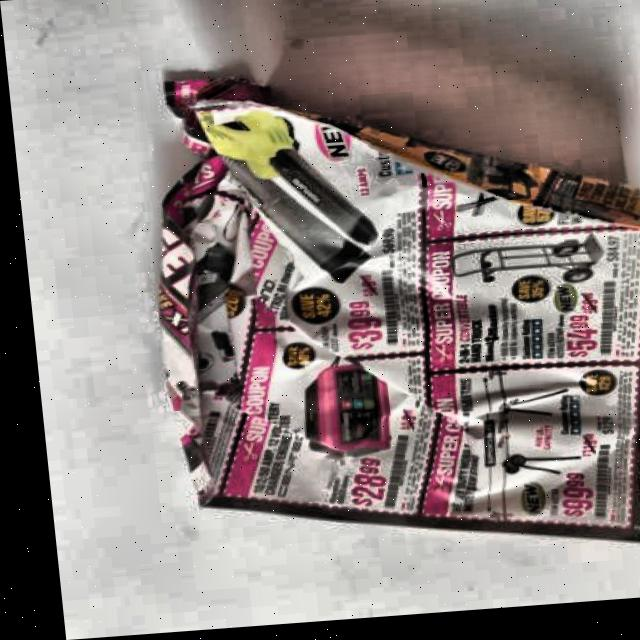paper: (134, 42, 640, 582)
